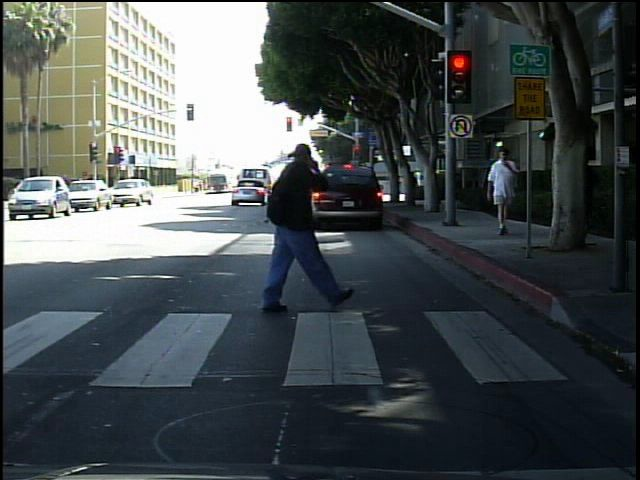person: (234, 124, 346, 338), (482, 144, 525, 239), (569, 137, 603, 245)
